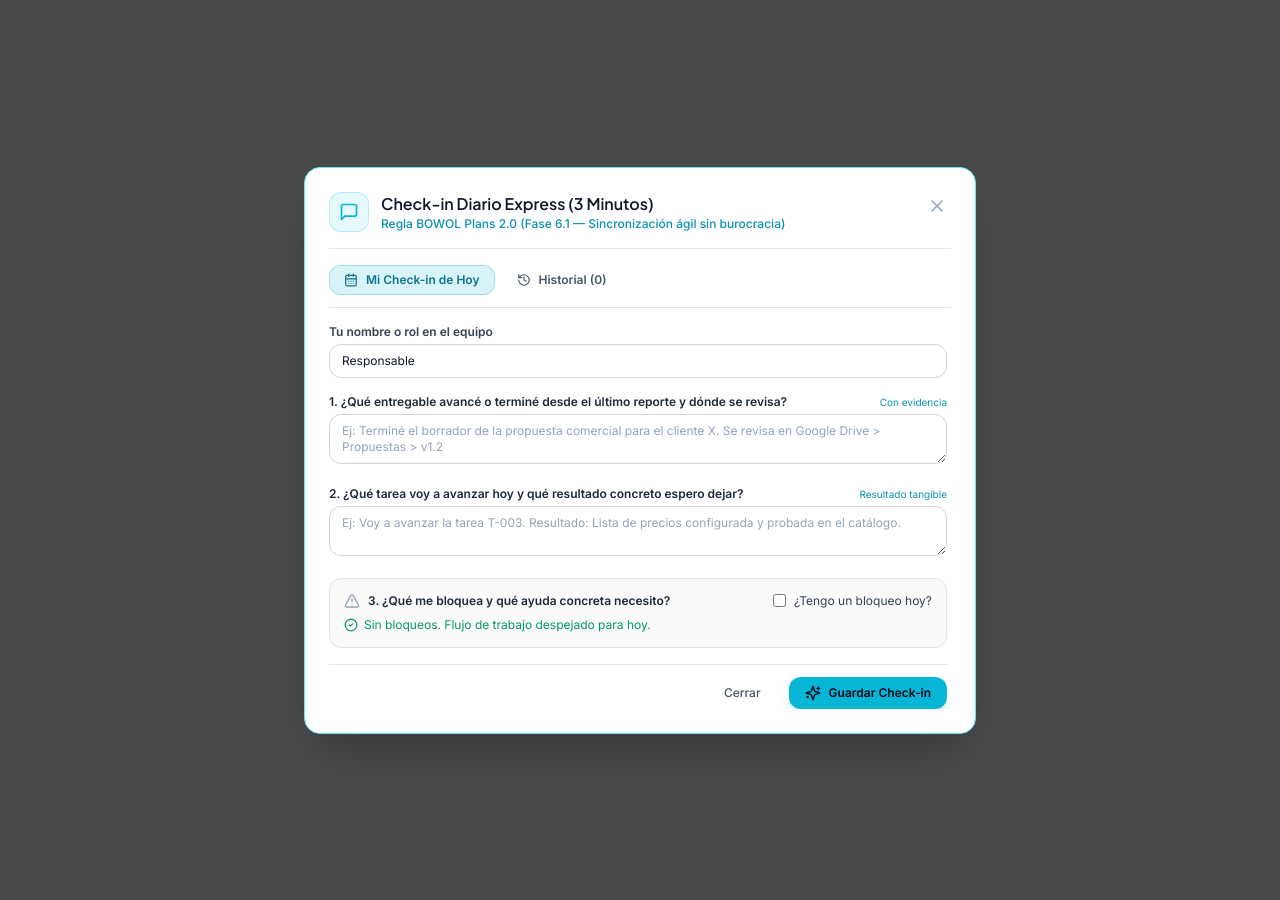
Scenario: DailyCheckinModal (Fase 6.1) › permite registrar las 3 preguntas clave y ver el historial
Expected: the text "Check-in Diario Express (3 Minutos)" is shown, [381,192,654,216]
Expected: the text "1. ¿Qué entregable avancé o terminé desde el último reporte y dónde se revisa?" is shown, [329,394,787,410]
Note: Cambiar a la pestaña de historial
Click the button "Historial (0)": x=562, y=280 [502,266,620,294]
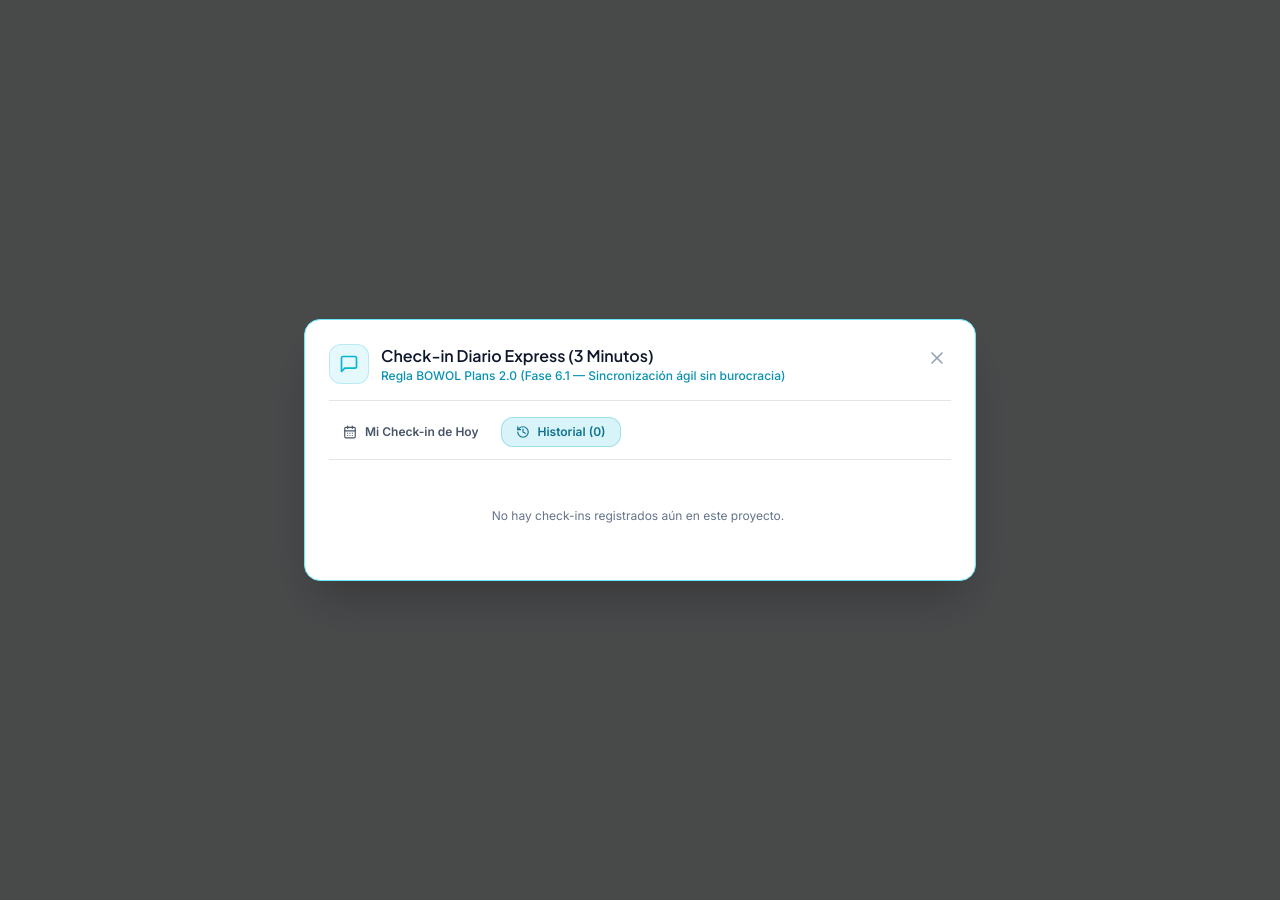
Result: the text "No hay check-ins registrados aún en este proyecto." is shown at [492,508,784,523]
